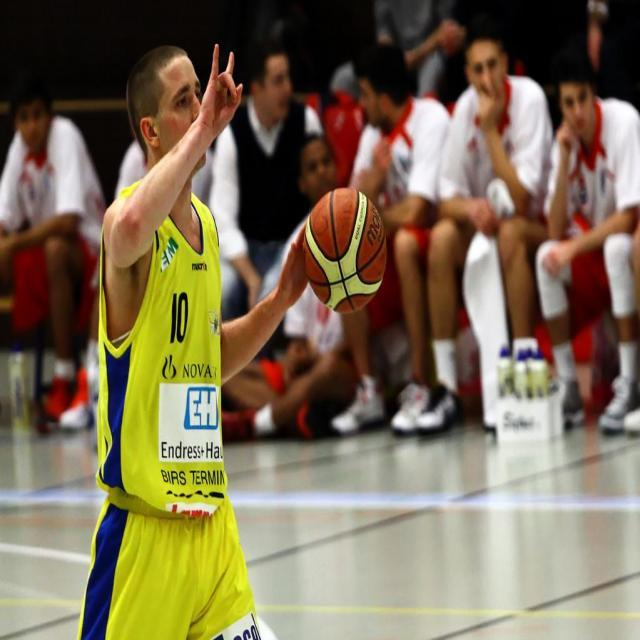rim: (304, 182, 386, 316)
